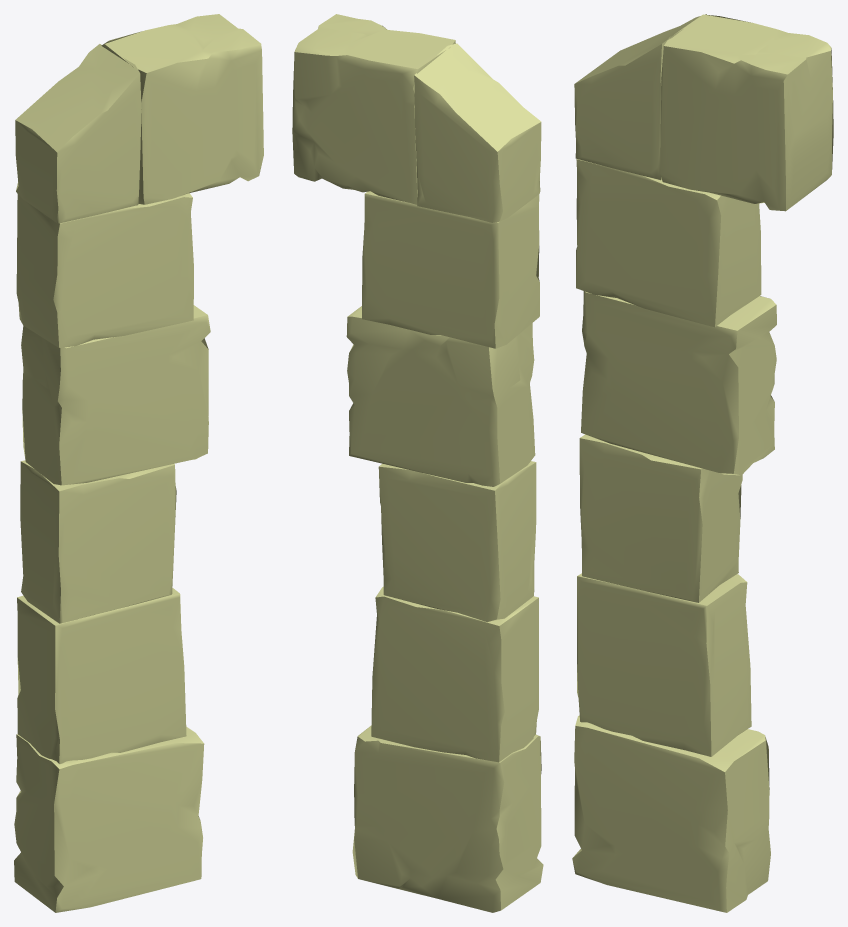
Rendered from stone_element_20_lintel_06.fbx.
3 views of the same model, side by side, from view 1: azimuth 30°, elevation 25°; view 2: azimuth 150°, elevation 25°; view 3: azimuth 330°, elevation 25° (orthographic). The views are drawn at different scales.
Visible parts, largest first — view 1: stone_element_20_lintel_06_LOD0; view 2: stone_element_20_lintel_06_LOD0; view 3: stone_element_20_lintel_06_LOD0.
Boxes of the visible parts, box(x1,y1,x2,y2) form: stone_element_20_lintel_06_LOD0: box(14, 14, 263, 912); stone_element_20_lintel_06_LOD0: box(292, 14, 543, 912); stone_element_20_lintel_06_LOD0: box(572, 14, 833, 912).
Size of what is drawn, in the model's own units: 88.71 by 335 by 33.99.
